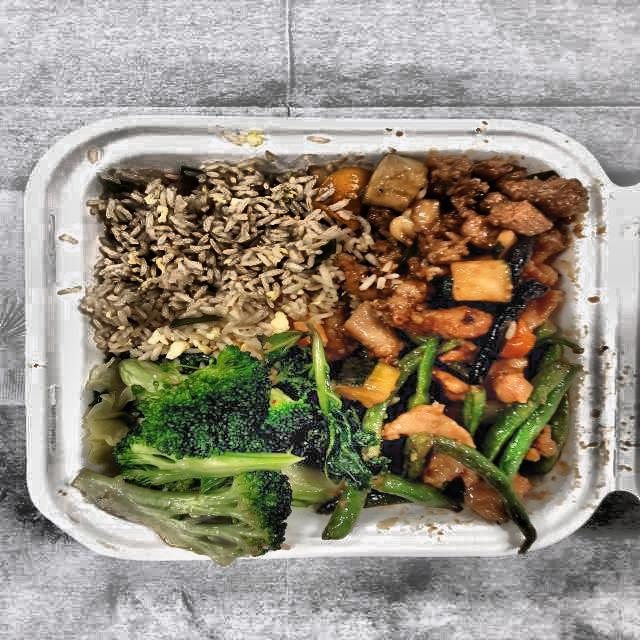Food: (83, 344, 364, 554), (314, 142, 590, 342), (340, 324, 596, 526), (70, 157, 319, 349)
